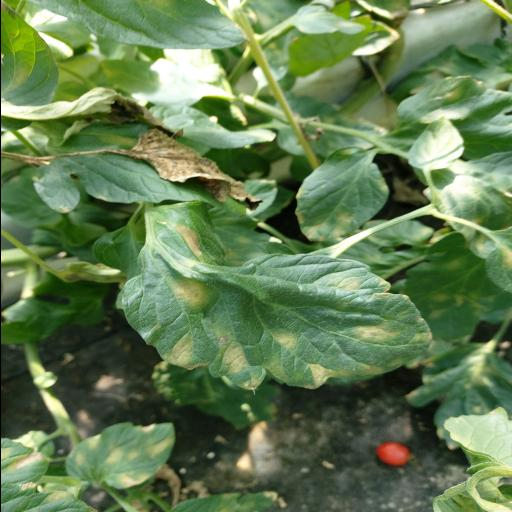disease_tomato: (120, 199, 433, 391), (294, 146, 388, 242), (62, 422, 178, 490)
